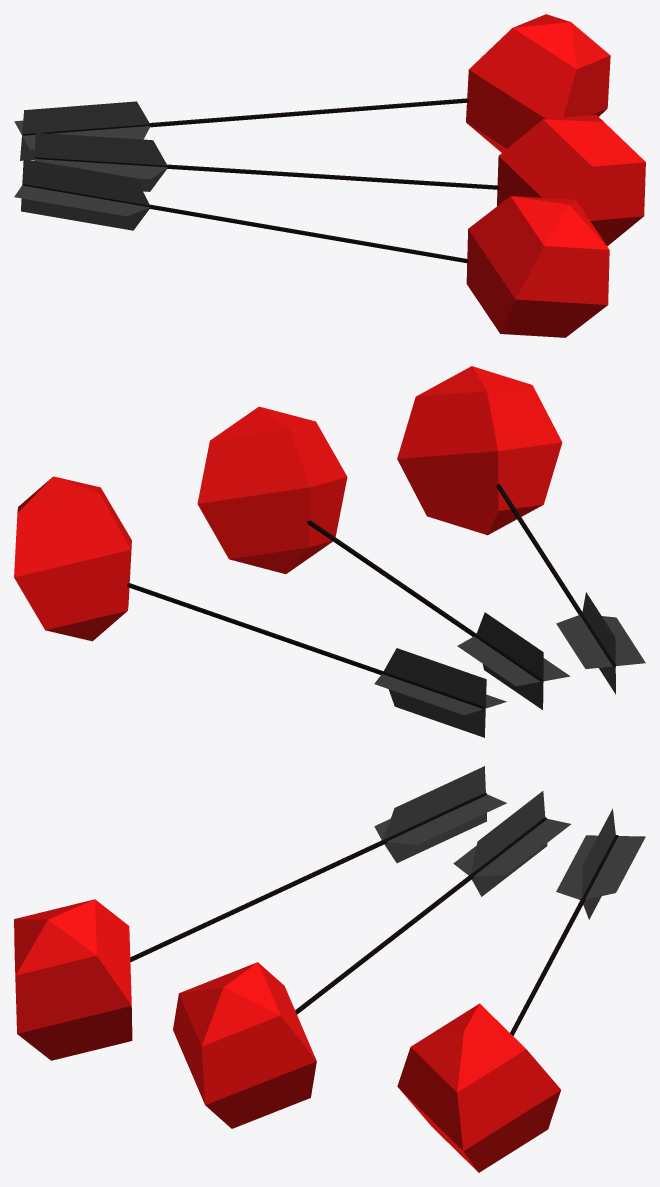
Rendered from red_arrows.obj.
The picture shows the model from 3 angles, top to bottom: view 1: azimuth 30°, elevation 25°; view 2: azimuth 150°, elevation 25°; view 3: azimuth 270°, elevation 25°; orthographic projection. The views are drawn at different scales.
Parts seen in each view (by area): view 1: Sphere.009_Sphere.003, Sphere.011_Sphere.002, Sphere.010_Sphere.002, Plane.017_Plane.001, Plane.019_Plane.001, Plane.021_Plane.001, Cube.217_Cube.002, Cube.216_Cube.002, Cube.222_Cube.002, Plane.018_Plane.001, Plane.020_Plane.001, Plane.022_Plane.001; view 2: Sphere.009_Sphere.003, Sphere.010_Sphere.002, Sphere.011_Sphere.002, Plane.021_Plane.001, Plane.019_Plane.001, Plane.018_Plane.001, Plane.020_Plane.001, Cube.222_Cube.002, Plane.022_Plane.001, Cube.217_Cube.002, Plane.017_Plane.001, Cube.216_Cube.002; view 3: Sphere.010_Sphere.002, Sphere.011_Sphere.002, Sphere.009_Sphere.003, Plane.017_Plane.001, Plane.022_Plane.001, Plane.019_Plane.001, Plane.020_Plane.001, Plane.018_Plane.001, Cube.216_Cube.002, Cube.217_Cube.002, Plane.021_Plane.001, Cube.222_Cube.002.
Part boxes in pixels (bbox=[...]): Sphere.009_Sphere.003: bbox=[466, 196, 609, 337]; Sphere.011_Sphere.002: bbox=[466, 14, 610, 152]; Sphere.010_Sphere.002: bbox=[497, 114, 645, 246]; Plane.017_Plane.001: bbox=[21, 159, 149, 230]; Plane.019_Plane.001: bbox=[34, 132, 167, 191]; Plane.021_Plane.001: bbox=[20, 101, 149, 160]; Cube.217_Cube.002: bbox=[35, 157, 499, 189]; Cube.216_Cube.002: bbox=[23, 184, 468, 263]; Cube.222_Cube.002: bbox=[23, 98, 469, 135]; Plane.018_Plane.001: bbox=[14, 185, 150, 216]; Plane.020_Plane.001: bbox=[34, 158, 167, 179]; Plane.022_Plane.001: bbox=[14, 120, 150, 149]; Sphere.009_Sphere.003: bbox=[397, 366, 562, 535]; Sphere.010_Sphere.002: bbox=[197, 406, 347, 574]; Sphere.011_Sphere.002: bbox=[14, 476, 131, 641]; Plane.021_Plane.001: bbox=[383, 648, 486, 737]; Plane.019_Plane.001: bbox=[476, 612, 543, 709]; Plane.018_Plane.001: bbox=[556, 615, 645, 669]; Plane.020_Plane.001: bbox=[457, 636, 570, 686]; Cube.222_Cube.002: bbox=[127, 583, 484, 710]; Plane.022_Plane.001: bbox=[374, 674, 506, 715]; Cube.217_Cube.002: bbox=[307, 520, 543, 683]; Plane.017_Plane.001: bbox=[582, 592, 615, 694]; Cube.216_Cube.002: bbox=[496, 483, 615, 667]; Sphere.010_Sphere.002: bbox=[173, 962, 316, 1128]; Sphere.011_Sphere.002: bbox=[397, 1003, 560, 1172]; Sphere.009_Sphere.003: bbox=[14, 899, 132, 1060]; Plane.017_Plane.001: bbox=[383, 766, 486, 862]; Plane.022_Plane.001: bbox=[556, 835, 645, 899]; Plane.019_Plane.001: bbox=[470, 791, 547, 896]; Plane.020_Plane.001: bbox=[453, 818, 571, 876]; Plane.018_Plane.001: bbox=[374, 794, 506, 844]; Cube.216_Cube.002: bbox=[130, 792, 487, 962]; Cube.217_Cube.002: bbox=[295, 817, 546, 1014]; Plane.021_Plane.001: bbox=[581, 808, 615, 919]; Cube.222_Cube.002: bbox=[510, 835, 618, 1035].
Size of the model in its own units: 0.7989 by 0.1844 by 0.6932.
